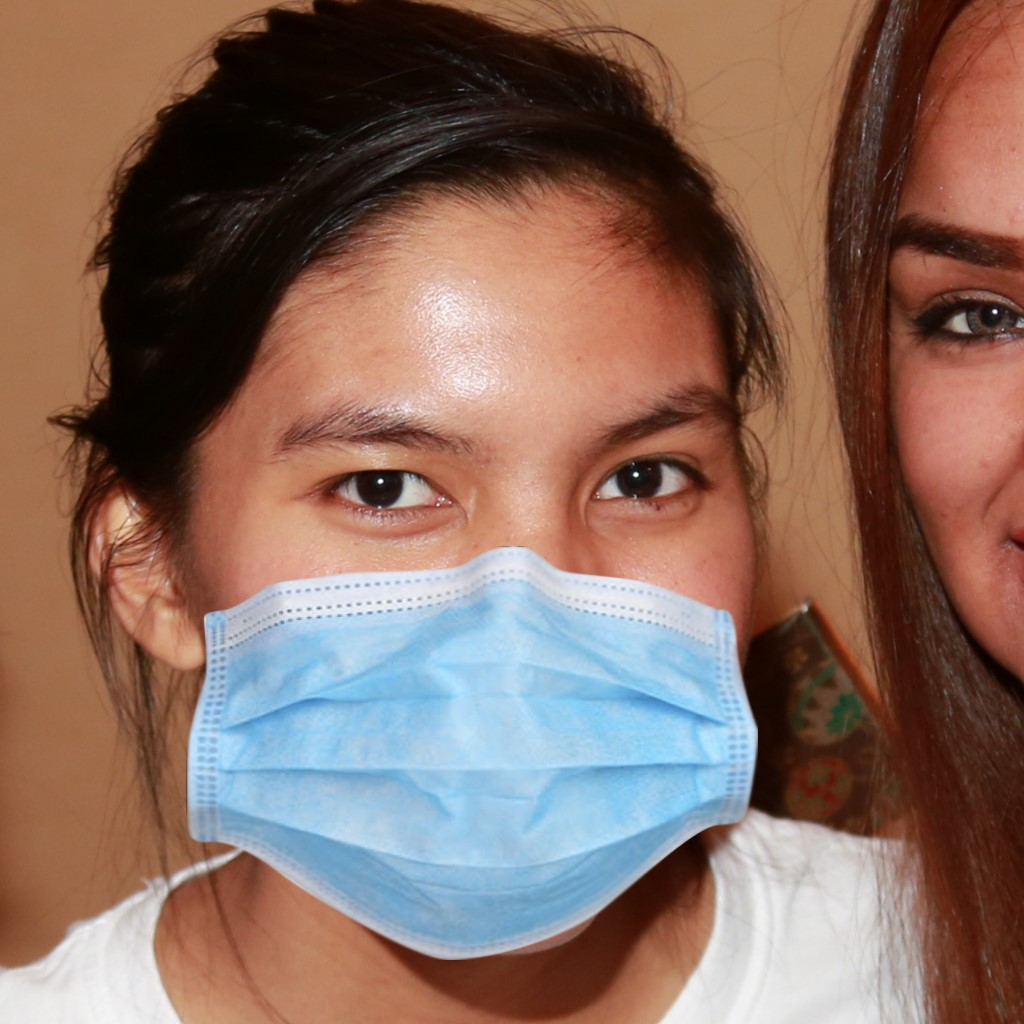con_mascara: (150, 164, 760, 940)
